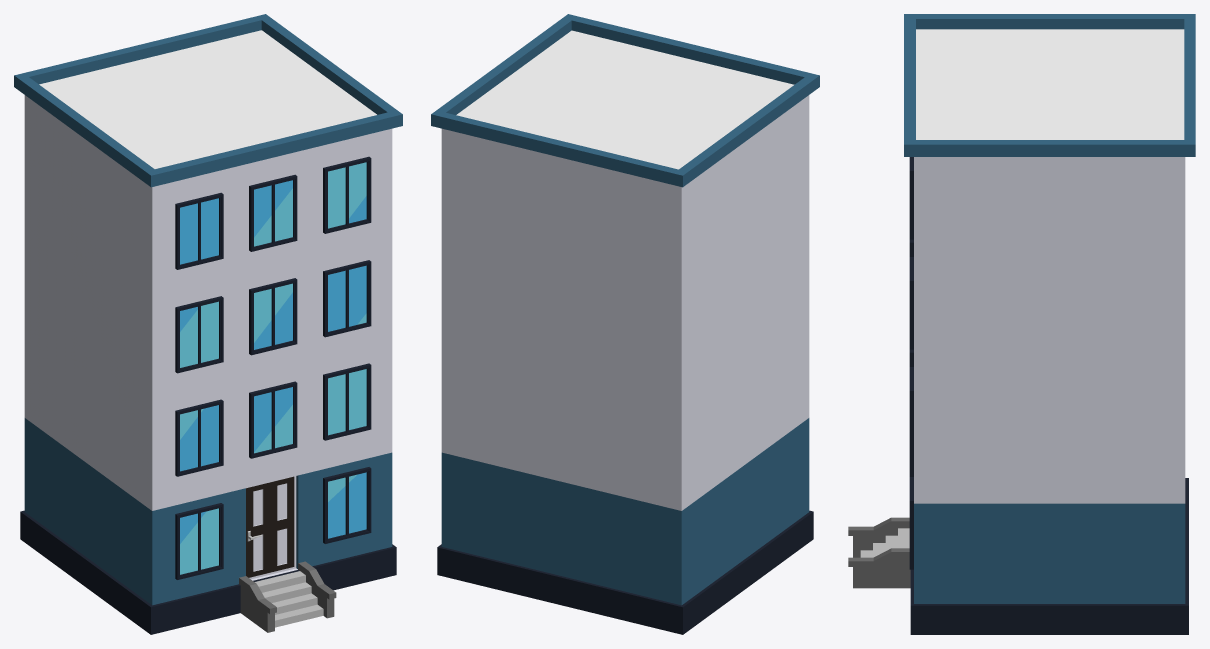
Rendered from Env_Motel_01.fbx.
3 renders of one model, left to right at view 1: azimuth 30°, elevation 25°; view 2: azimuth 150°, elevation 25°; view 3: azimuth 270°, elevation 25°, orthographic. The views are drawn at different scales.
Visible parts, largest first — view 1: Env_Motel_01; view 2: Env_Motel_01; view 3: Env_Motel_01.
Boxes of the visible parts, x1,y1,x2,y2 form: Env_Motel_01: (14, 14, 402, 634); Env_Motel_01: (431, 14, 819, 634); Env_Motel_01: (848, 14, 1195, 634).
Size of the model in its own units: 593 by 1040 by 665.
